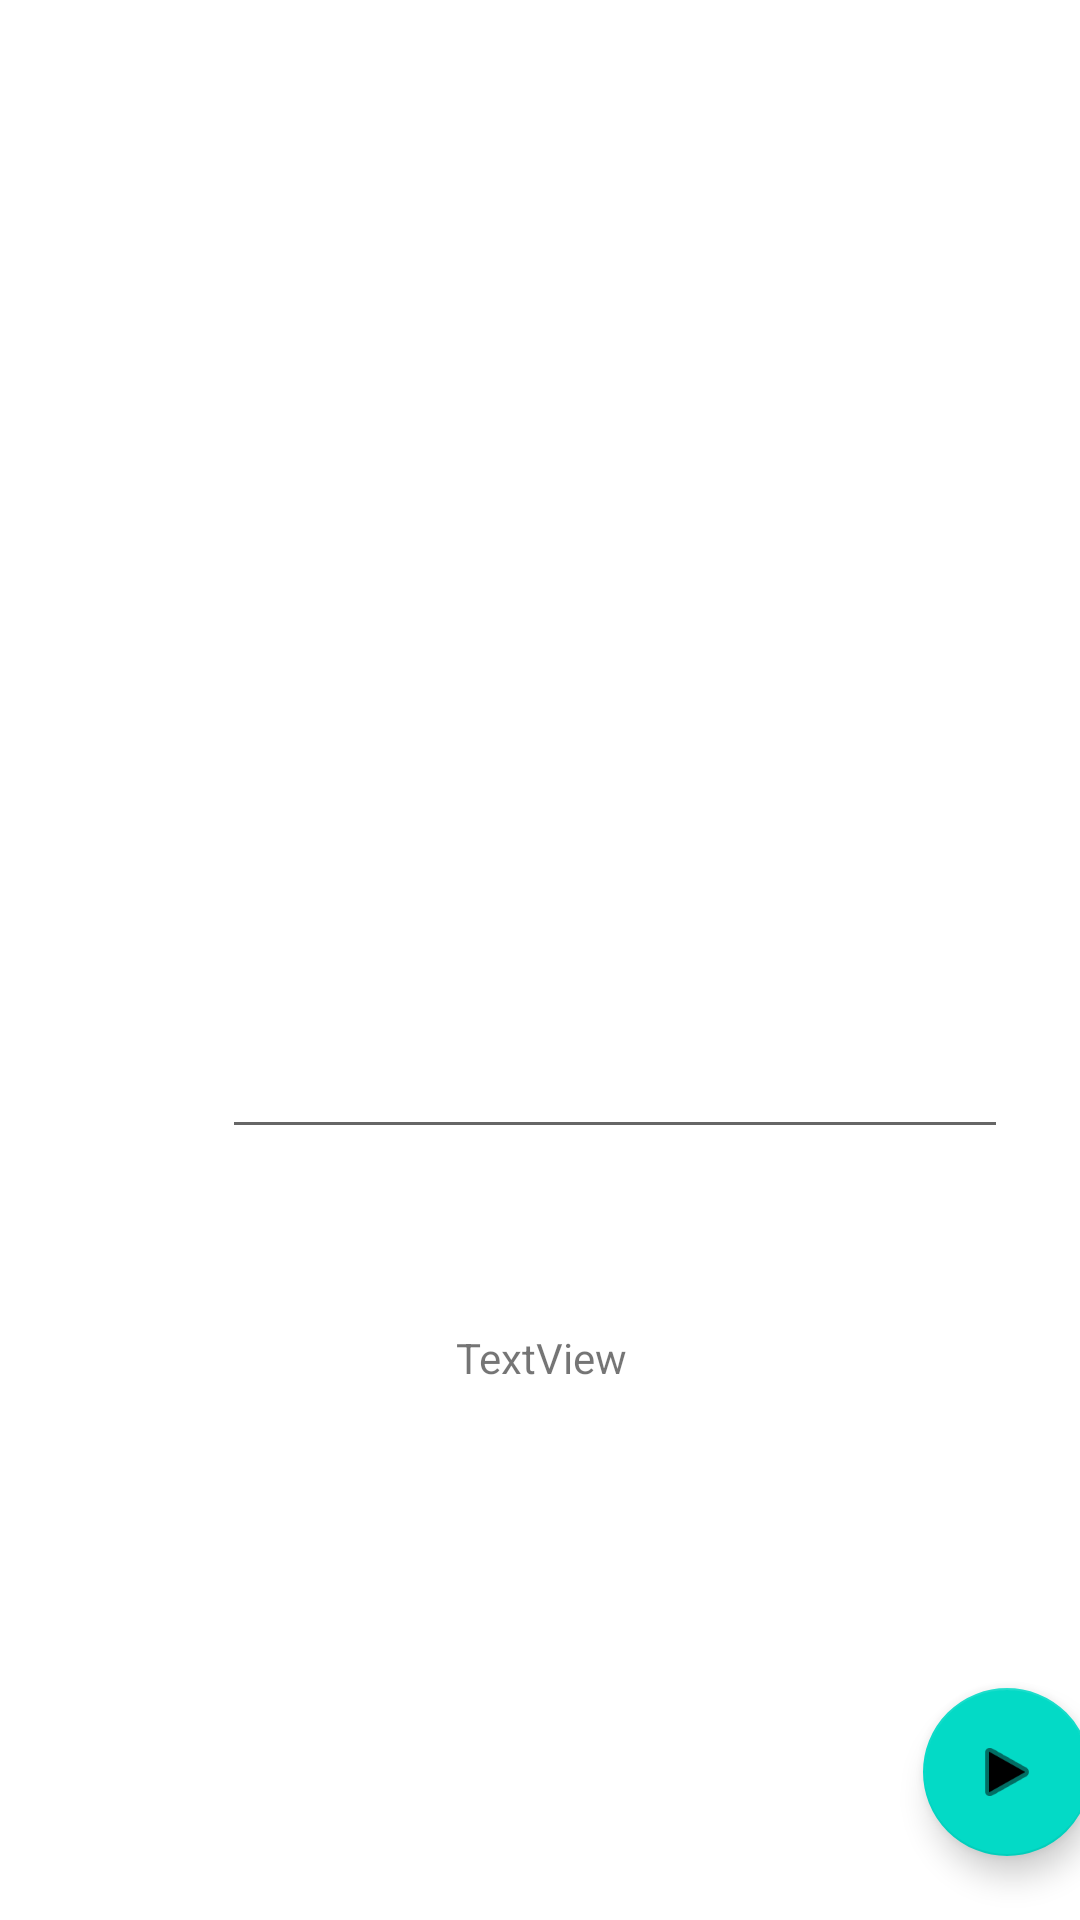

Screen size 1080*1920. Icon name, then its box in pixels as (x1,y1,x2,y2):
play: (923,1688,1080,1856)
